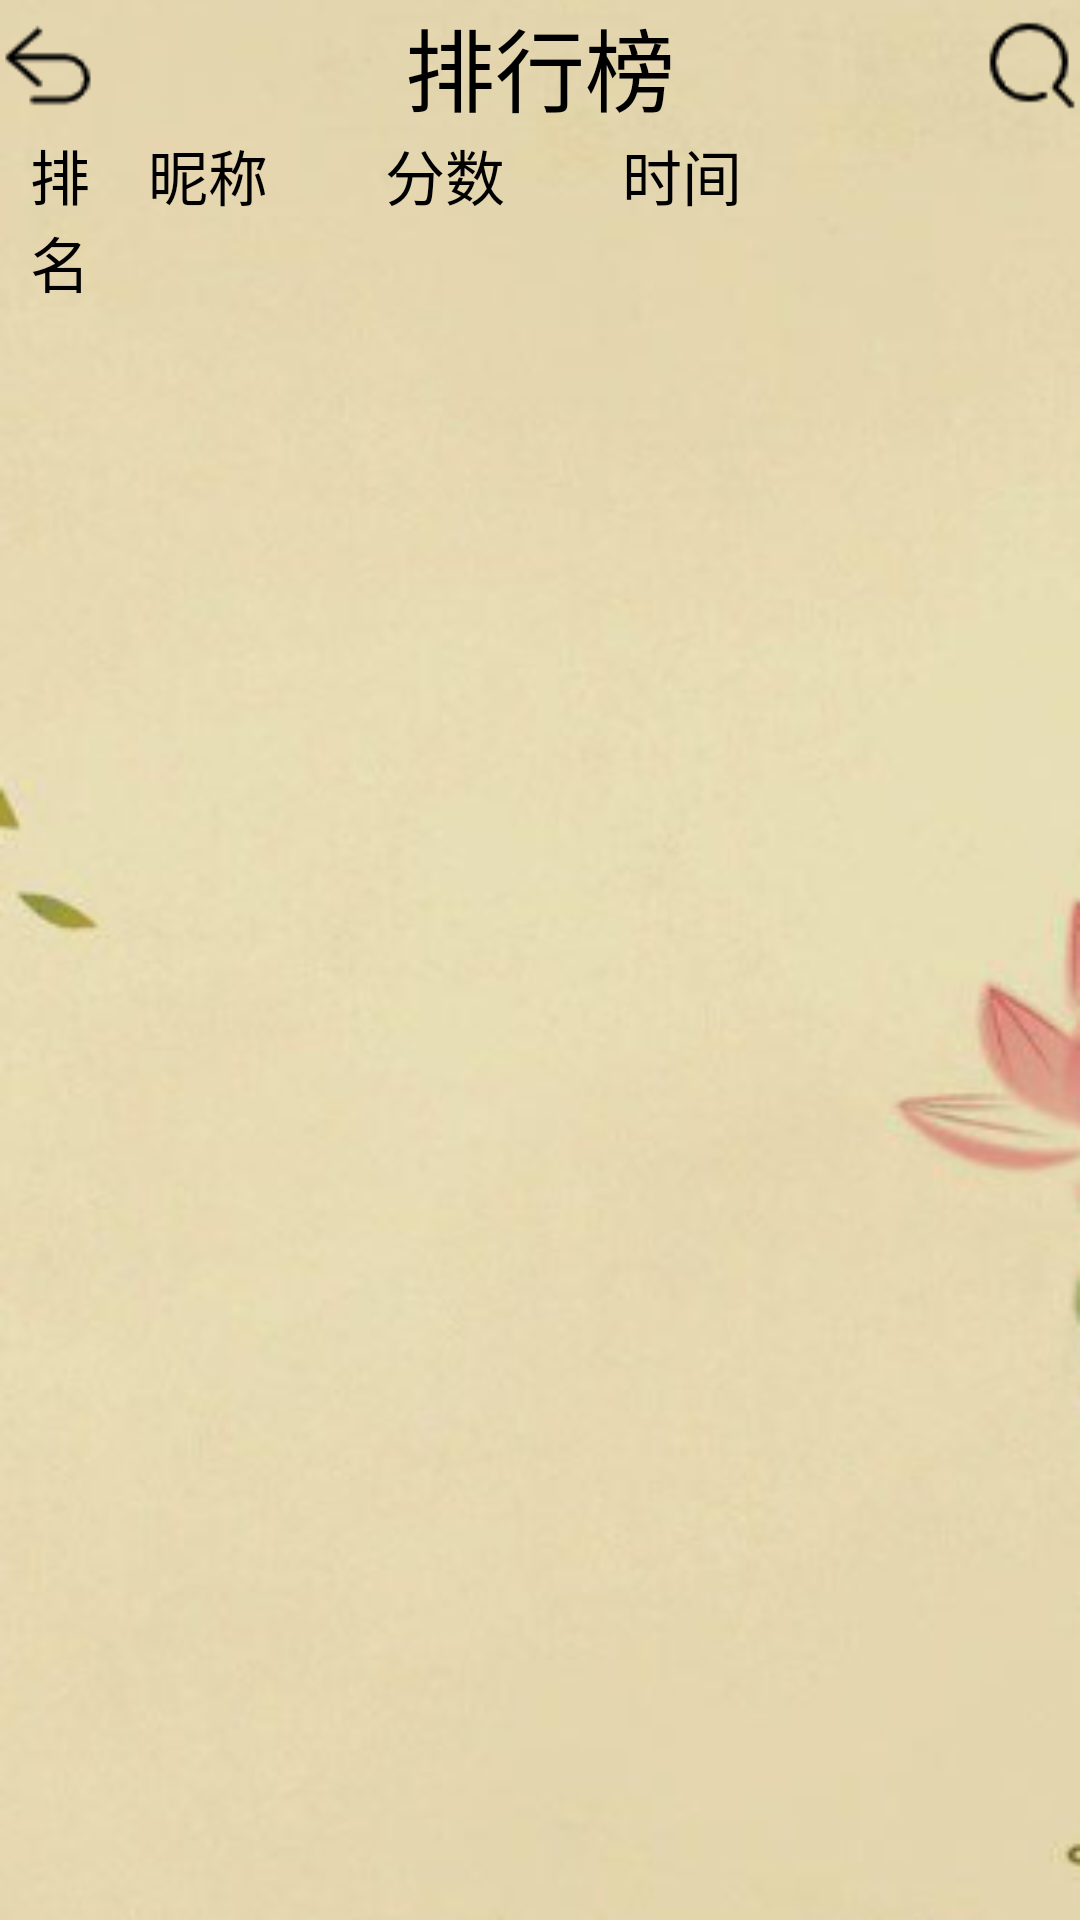

Screen size 1080px x 1920px. Icon name, then its box in pixels as [x1=x1, y1=y1, x2=x2, y2=y2]:
back: [x1=5, y1=26, x2=91, y2=105]
search: [x1=989, y1=22, x2=1075, y2=109]
